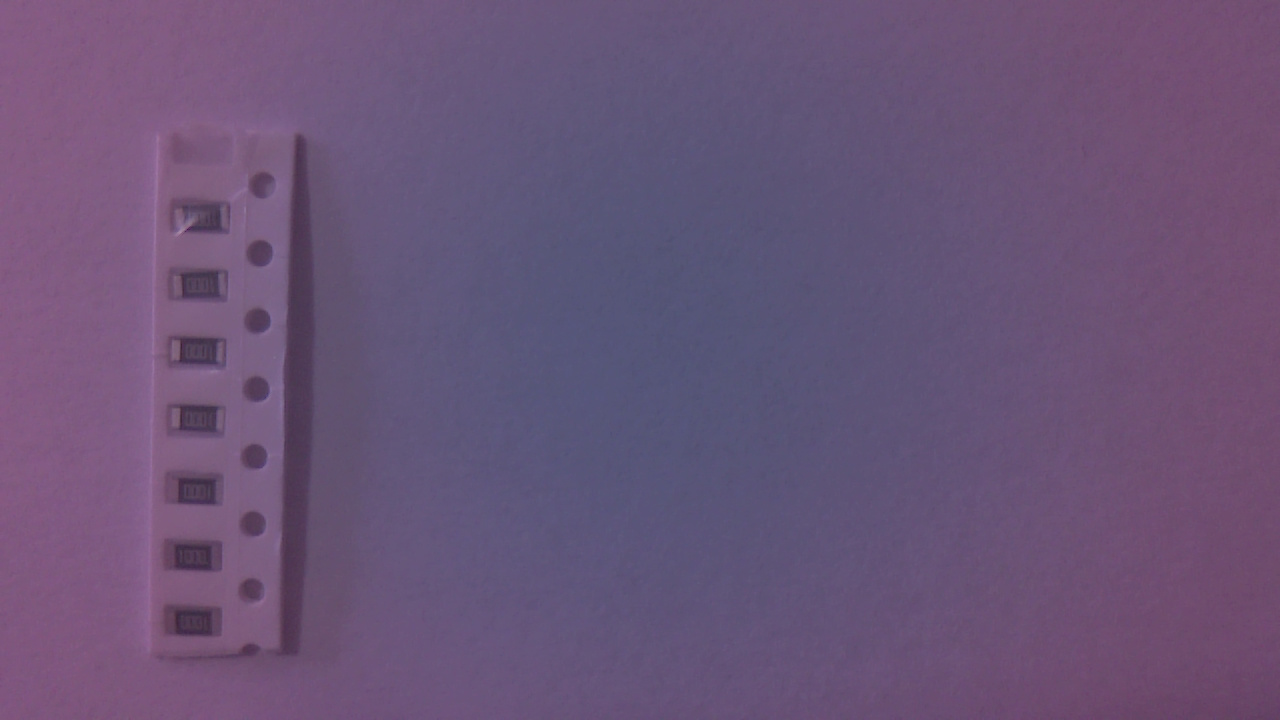Resistor: (168, 542, 229, 579), (172, 272, 237, 306), (171, 338, 232, 373), (167, 477, 227, 512), (175, 205, 237, 238), (168, 608, 227, 642), (171, 407, 229, 439)
